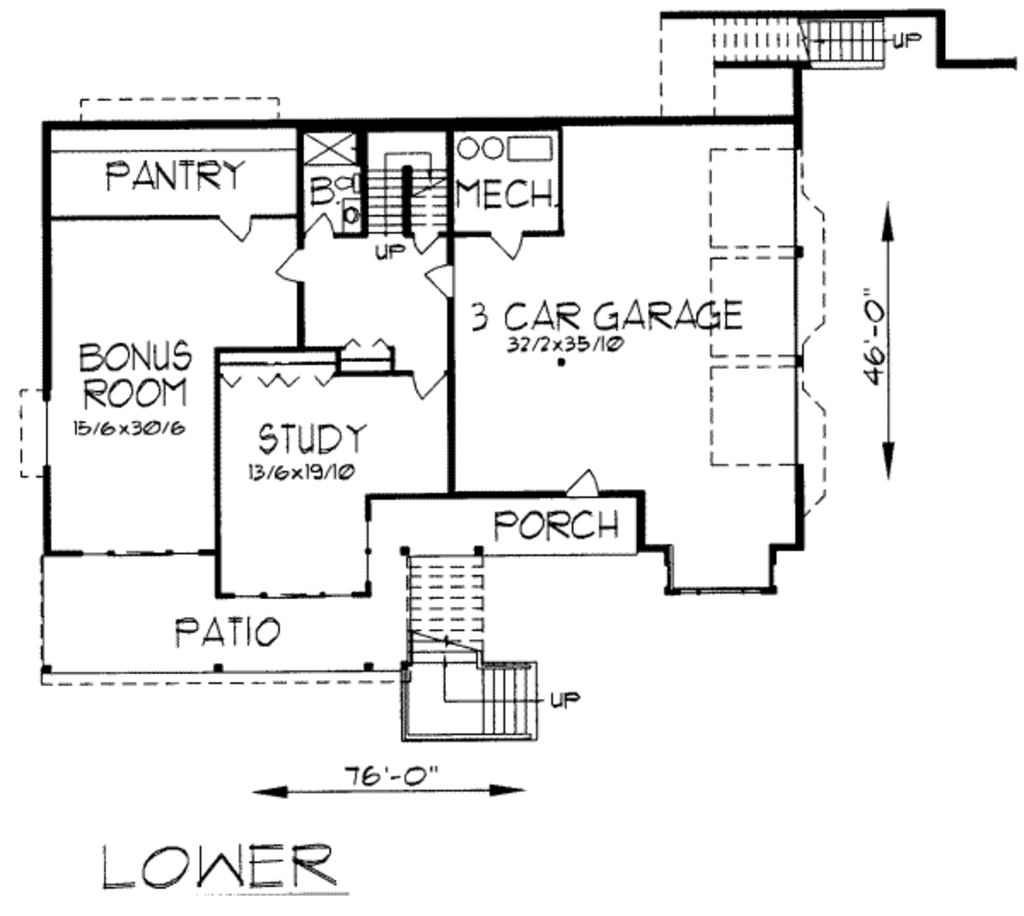door: (560, 464, 606, 501), (423, 260, 457, 301), (405, 369, 446, 401), (275, 243, 306, 285), (220, 211, 257, 246), (299, 209, 339, 240), (487, 231, 526, 259)
large_sink: (332, 167, 364, 198)
small_sink: (345, 198, 366, 237)
stairs: (392, 657, 549, 748), (707, 16, 900, 77), (367, 125, 453, 233)
